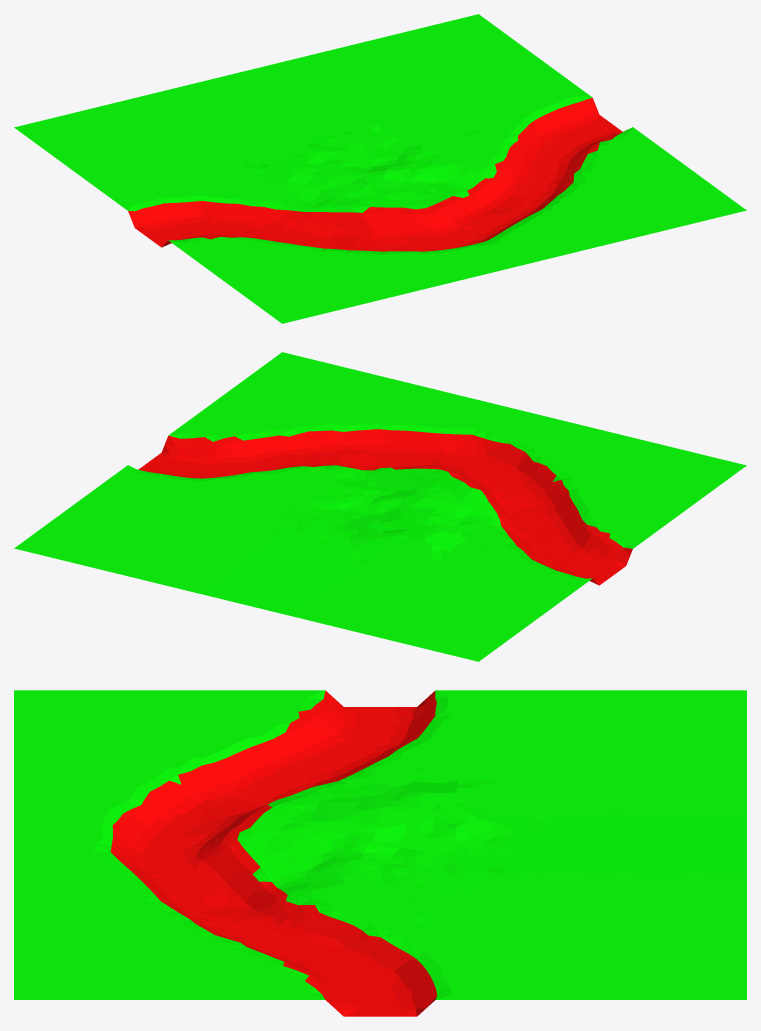
The model's file is River06.fbx.
The picture shows the model from 3 angles, top to bottom: view 1: azimuth 30°, elevation 25°; view 2: azimuth 150°, elevation 25°; view 3: azimuth 270°, elevation 25°; orthographic projection. The views are drawn at different scales.
Parts seen in each view (by area): view 1: River06; view 2: River06; view 3: River06.
Part boxes in pixels (x1,y1,x2,y2): River06: [14, 14, 746, 323]; River06: [14, 352, 746, 661]; River06: [14, 690, 746, 1016].
Size of the model in its own units: 5009 by 194 by 5009.
